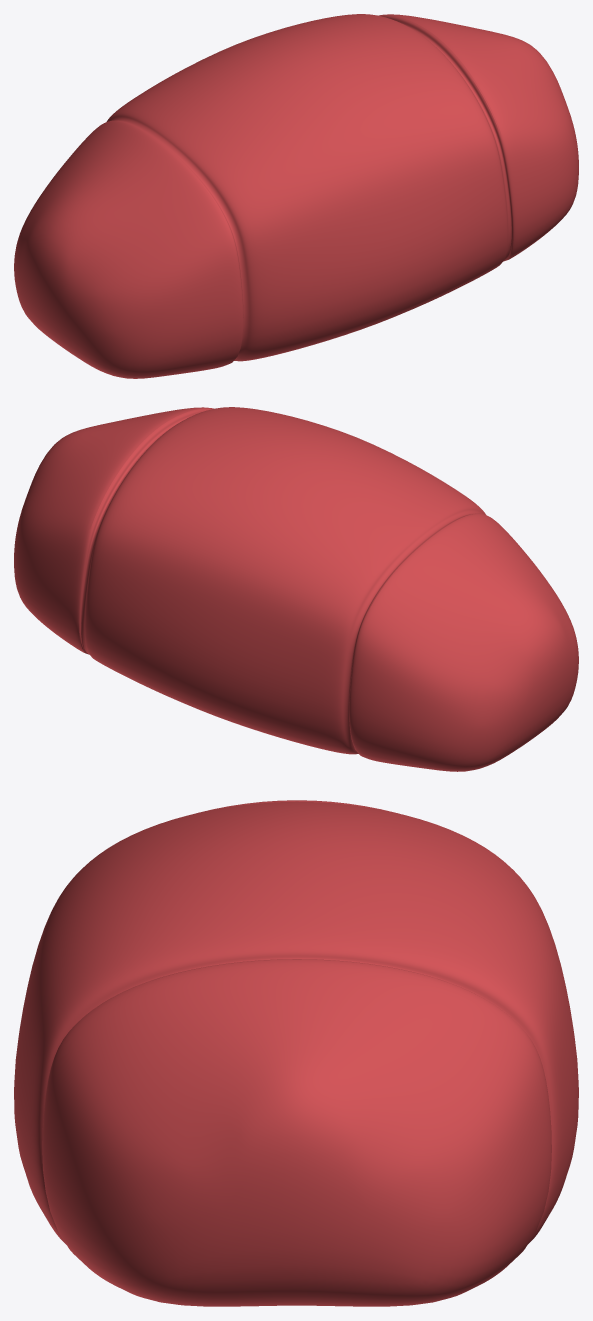
The picture shows the model from 3 angles, top to bottom: view 1: azimuth 30°, elevation 25°; view 2: azimuth 150°, elevation 25°; view 3: azimuth 270°, elevation 25°; orthographic projection. The views are drawn at different scales.
Parts seen in each view (by area): view 1: 球体.013; view 2: 球体.013; view 3: 球体.013.
Part boxes in pixels (x1,y1,x2,y2): 球体.013: [14, 14, 578, 378]; 球体.013: [14, 407, 578, 771]; 球体.013: [14, 800, 578, 1306].
Bounding box in the file's own units: 70.81 × 32.48 × 41.61.
